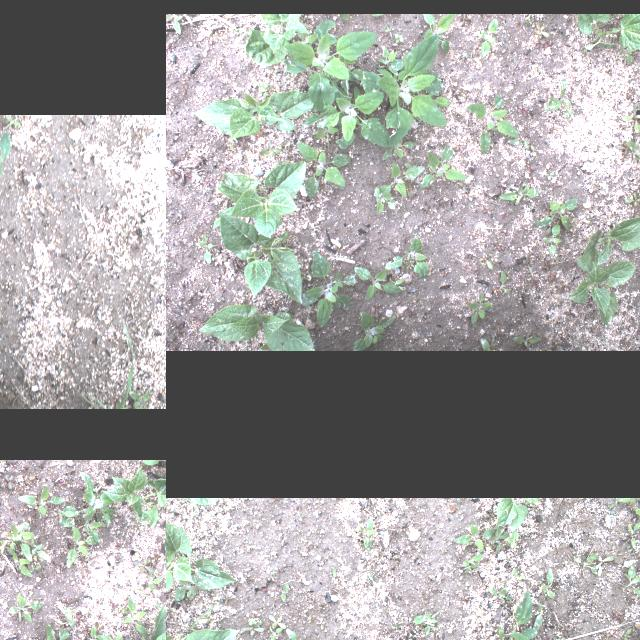crop: (219, 210, 303, 304), (570, 214, 640, 325), (216, 160, 306, 238), (192, 89, 318, 141), (166, 518, 238, 598), (198, 302, 314, 350), (103, 465, 166, 528), (247, 14, 310, 66), (90, 605, 166, 640), (576, 13, 640, 52), (497, 498, 538, 530), (504, 527, 518, 547), (182, 498, 220, 504)
weed: (361, 34, 452, 148), (44, 316, 149, 409), (284, 19, 378, 111), (301, 90, 395, 148), (301, 250, 357, 326), (296, 140, 354, 198), (466, 92, 520, 154), (480, 589, 541, 640), (418, 145, 468, 187), (384, 235, 432, 277), (80, 472, 114, 526), (376, 162, 426, 198), (352, 310, 394, 350), (353, 266, 402, 300), (15, 485, 64, 517), (534, 198, 578, 230), (118, 594, 148, 638), (422, 13, 454, 53), (64, 528, 96, 568), (452, 523, 498, 549), (176, 603, 218, 631), (10, 522, 38, 562), (9, 594, 43, 624), (544, 76, 572, 110), (613, 565, 640, 600), (499, 183, 539, 204), (382, 138, 418, 160), (468, 294, 494, 324), (28, 624, 75, 640), (572, 551, 598, 579), (542, 222, 562, 258), (374, 188, 398, 215), (621, 99, 640, 132), (11, 552, 35, 578), (211, 206, 239, 228), (359, 516, 376, 552), (481, 16, 497, 54), (84, 504, 100, 542), (29, 538, 51, 564), (531, 592, 545, 632), (198, 233, 215, 265), (173, 571, 190, 601), (127, 387, 150, 409), (615, 497, 640, 517), (424, 609, 441, 637), (513, 332, 541, 348), (262, 138, 286, 156), (166, 13, 186, 34), (392, 614, 426, 626), (541, 567, 553, 601), (494, 521, 506, 555), (286, 627, 317, 640), (463, 552, 483, 572), (621, 619, 640, 640), (624, 139, 640, 163), (600, 502, 616, 526), (592, 554, 616, 570), (507, 138, 538, 150), (627, 520, 640, 548), (60, 507, 78, 527), (60, 608, 76, 630), (242, 620, 264, 636), (618, 43, 634, 63), (614, 139, 634, 155), (100, 632, 140, 640), (134, 558, 156, 572), (488, 588, 512, 600), (266, 614, 286, 628), (498, 270, 509, 294), (316, 125, 338, 137), (148, 572, 160, 594), (624, 190, 640, 206), (93, 397, 114, 409), (389, 276, 406, 290), (268, 625, 283, 640), (4, 114, 20, 128), (479, 254, 493, 270), (535, 19, 549, 35), (488, 530, 509, 540), (4, 472, 15, 491), (201, 610, 215, 624), (612, 608, 626, 622), (405, 162, 421, 174), (513, 568, 525, 584), (259, 82, 269, 100), (7, 529, 16, 549), (141, 459, 166, 466), (90, 623, 100, 640), (238, 26, 258, 34), (482, 336, 494, 349), (3, 636, 39, 640), (221, 592, 233, 604), (280, 582, 288, 600), (481, 206, 495, 216), (499, 627, 509, 640), (406, 256, 416, 268), (597, 556, 603, 576), (622, 627, 631, 640), (0, 537, 7, 552), (188, 590, 198, 600), (384, 24, 392, 36), (462, 184, 468, 198), (396, 33, 404, 43), (247, 618, 257, 626), (187, 586, 195, 596), (118, 603, 124, 615), (0, 477, 5, 491), (547, 171, 555, 179), (366, 572, 374, 580), (155, 600, 161, 610), (332, 566, 338, 576), (0, 516, 4, 530), (162, 527, 166, 540), (82, 626, 88, 634), (320, 618, 324, 628), (249, 540, 253, 548), (270, 570, 276, 574), (220, 596, 222, 602)
